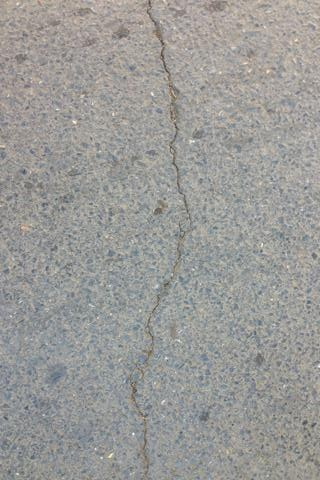A: (125, 4, 193, 480)
